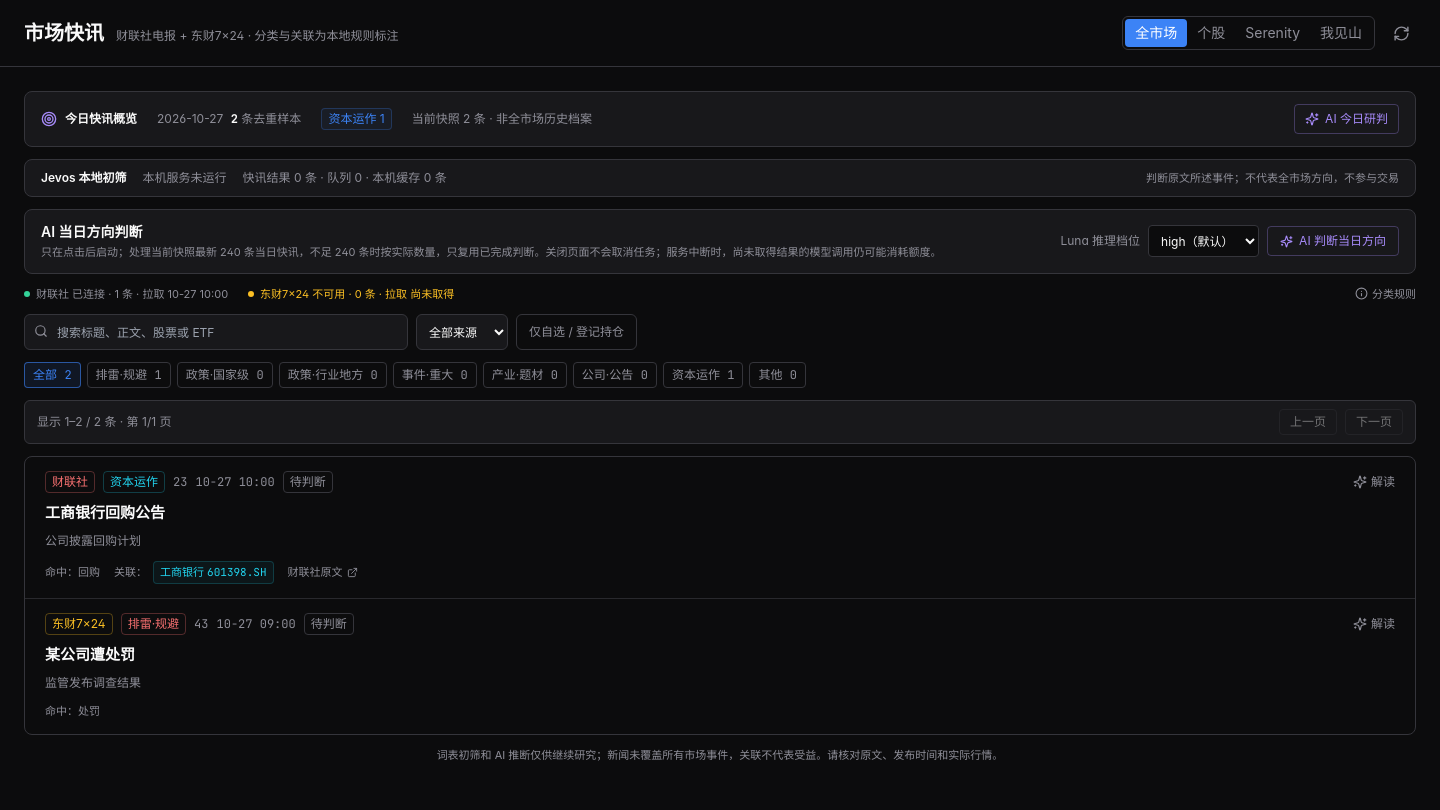
Test: starts the selected Luna effort only after a button click and stores only job coordinates
This screenshot has width=1440, height=810.
Expected: the button "AI 判断当日方向" is enabled, [1267, 226, 1399, 256]
Select "max" in the dropdown named "AI方向推理档位" at (1204, 241), box [1148, 225, 1259, 257]
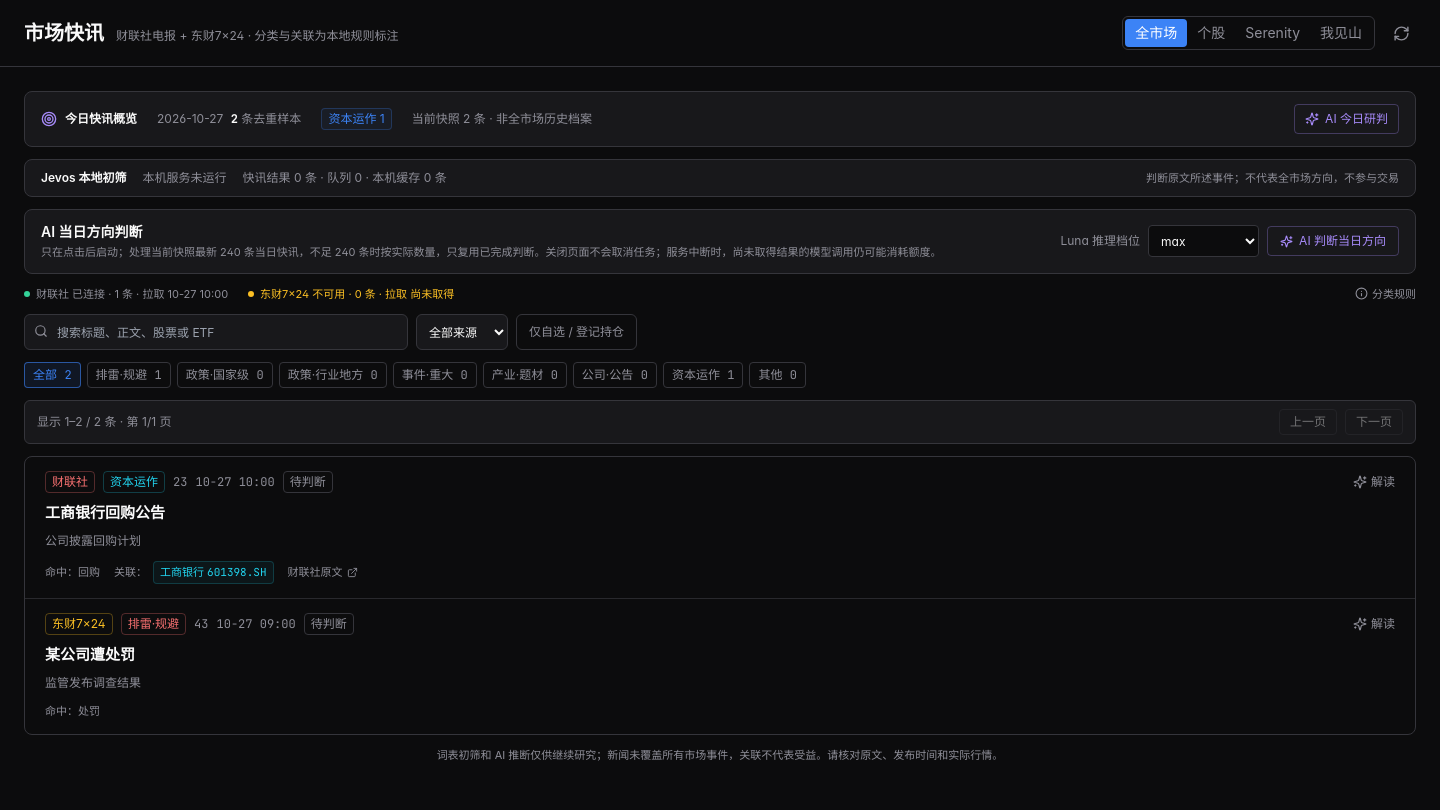
Click the button "AI 判断当日方向" at (1333, 241), box [1267, 226, 1399, 256]
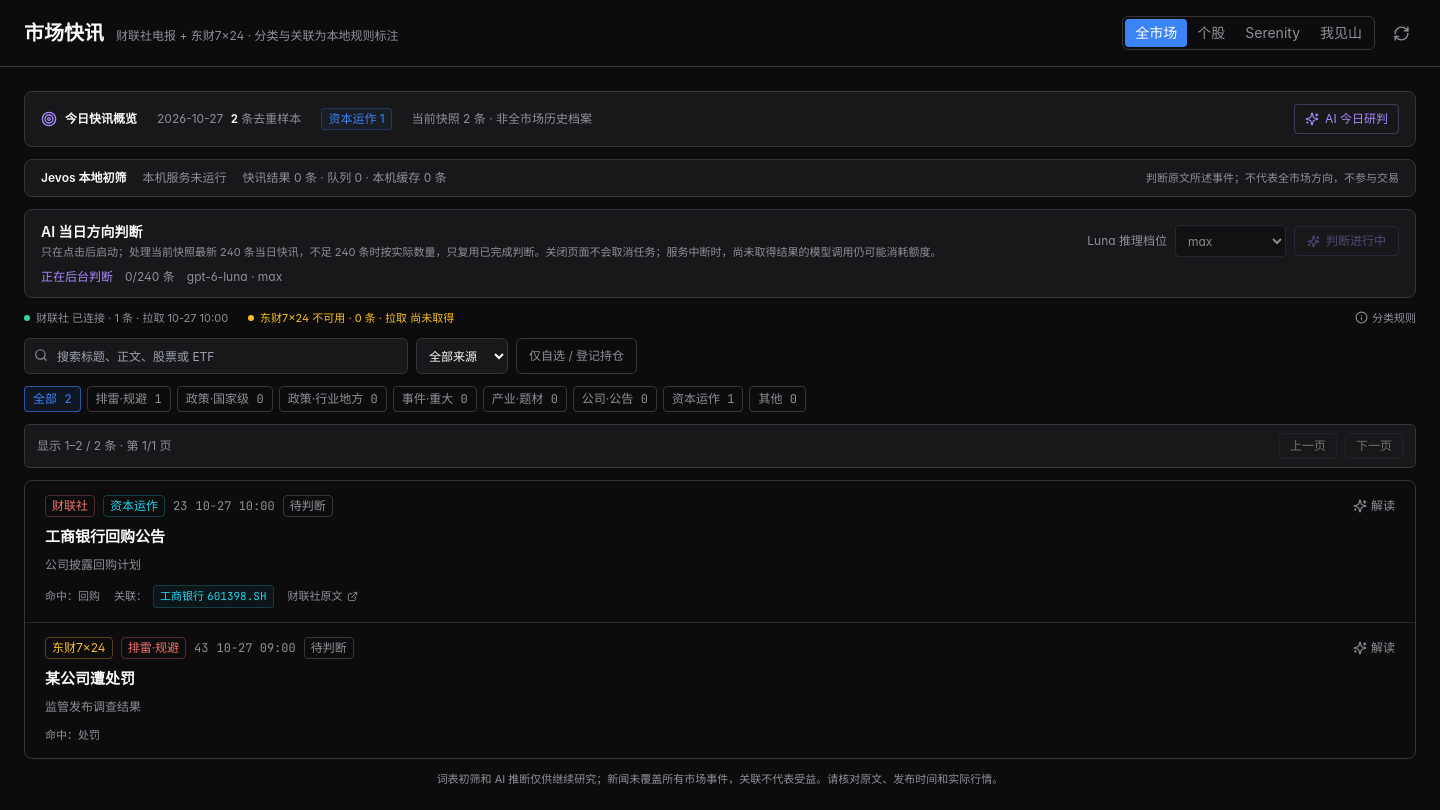
Now the text "正在后台判断" is shown, box [41, 268, 113, 284]
Now the text "gpt-6-luna · max" is shown, box [187, 268, 282, 284]
